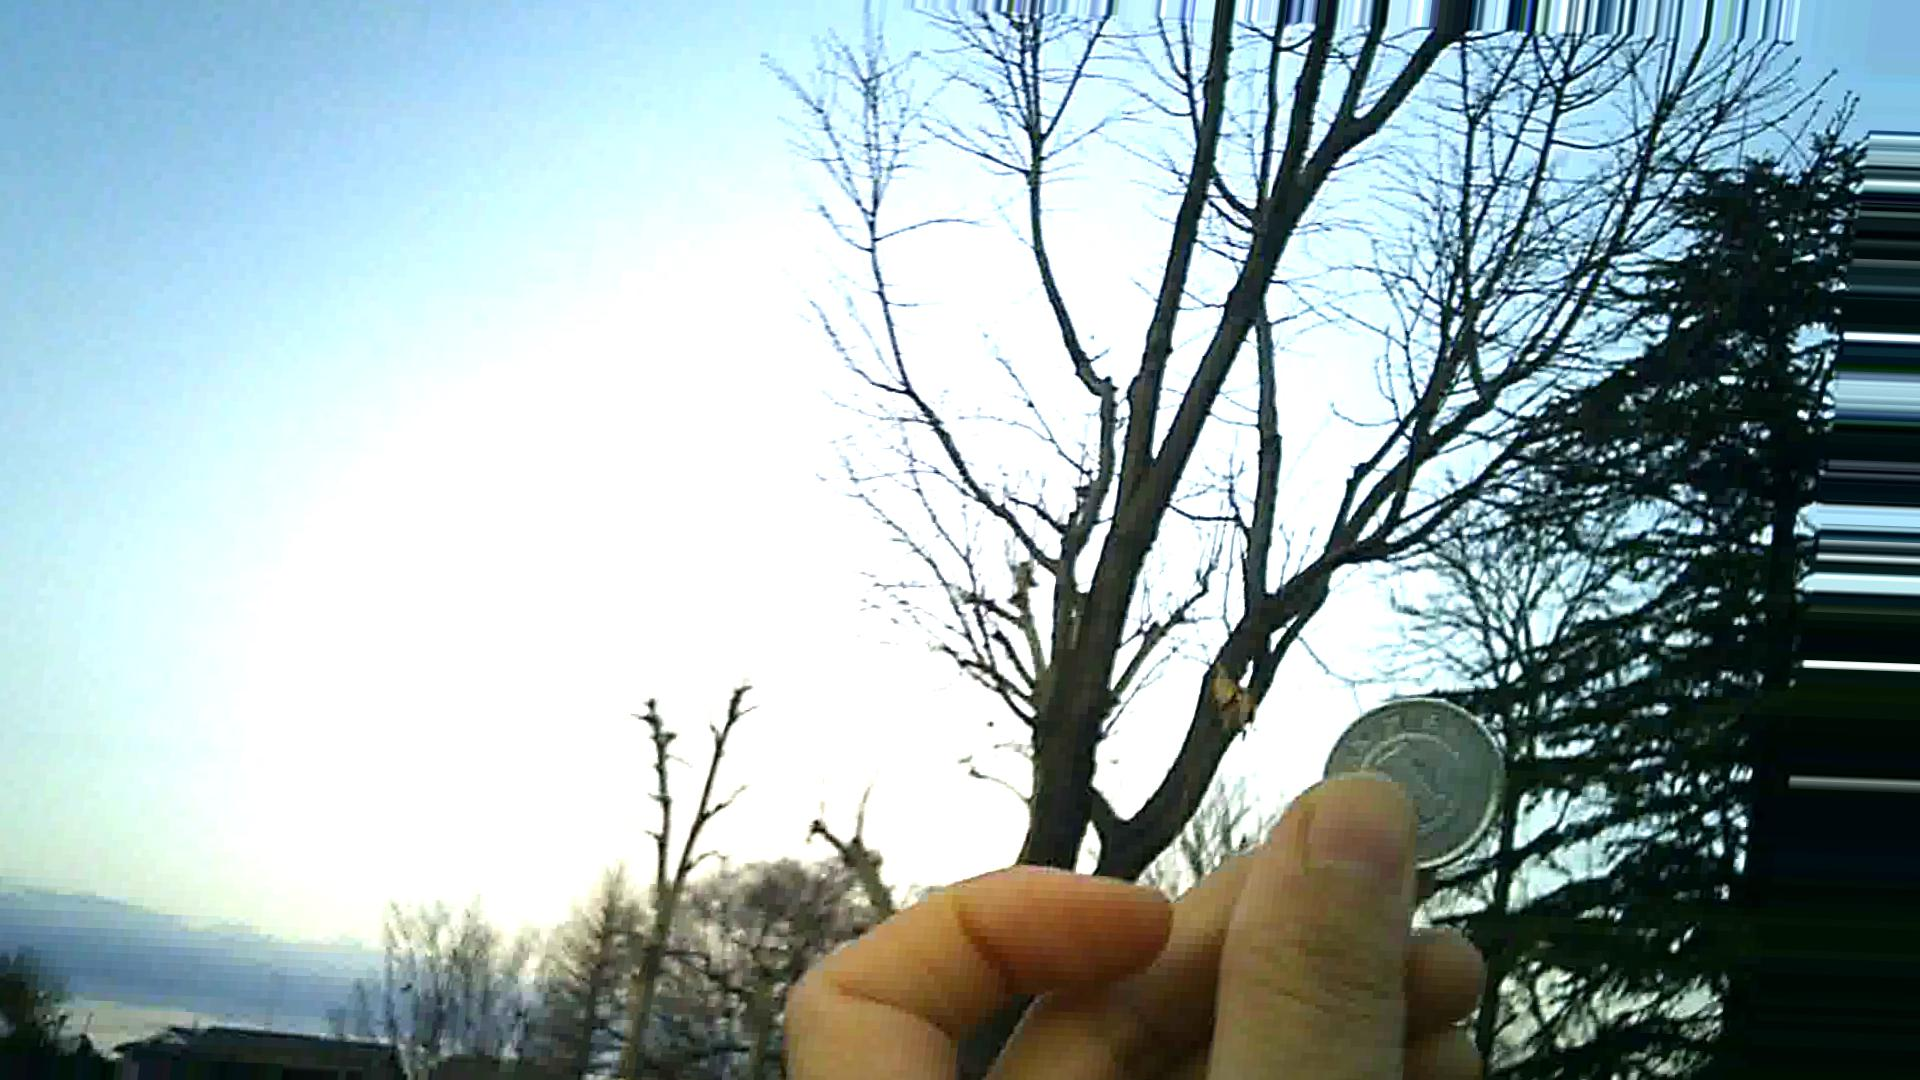1 Yen: (1311, 684, 1516, 866)
